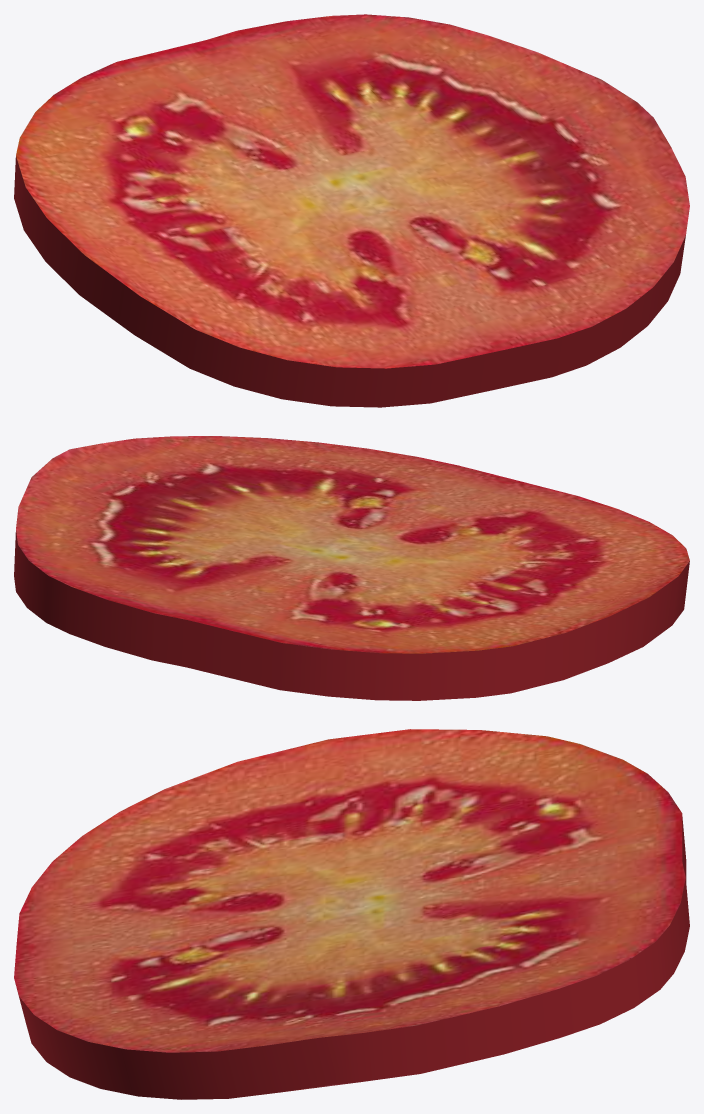
Rendered from SlicedTomatoes.fbx.
3 renders of one model, top to bottom at view 1: azimuth 30°, elevation 25°; view 2: azimuth 150°, elevation 25°; view 3: azimuth 270°, elevation 25°, orthographic. The views are drawn at different scales.
Parts seen in each view (by area): view 1: Component_2_1; view 2: Component_2_1; view 3: Component_2_1.
Part boxes in pixels (bbox=[...]): Component_2_1: bbox=[14, 14, 689, 407]; Component_2_1: bbox=[14, 436, 689, 700]; Component_2_1: bbox=[14, 729, 689, 1099].
Bounding box in the file's own units: 4.56 × 0.9914 × 4.33.
